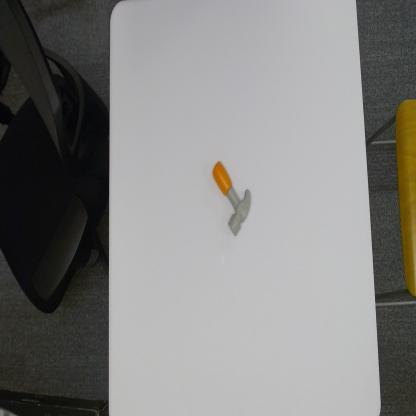Hammer: (211, 161, 252, 237)
